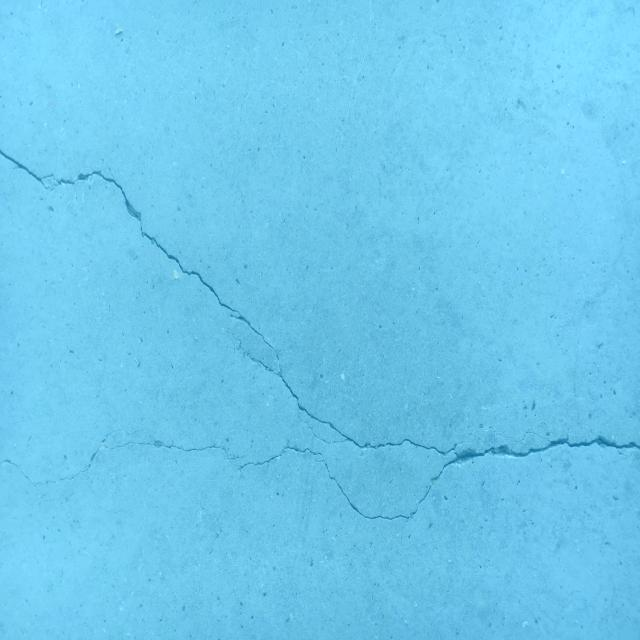crack: (0, 149, 640, 523)
